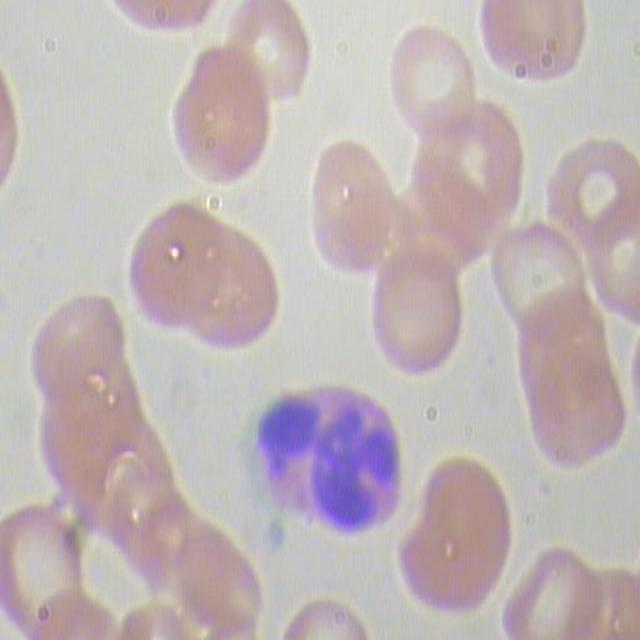RBC: (392, 446, 518, 622), (168, 44, 277, 194), (292, 138, 401, 288), (378, 21, 482, 151), (525, 348, 632, 472), (371, 252, 468, 382), (185, 226, 282, 356), (129, 204, 226, 334), (32, 288, 129, 418), (544, 132, 640, 262), (485, 220, 589, 334), (473, 5, 591, 99), (502, 546, 609, 640), (231, 2, 319, 114)
WBC: (250, 367, 417, 542)
